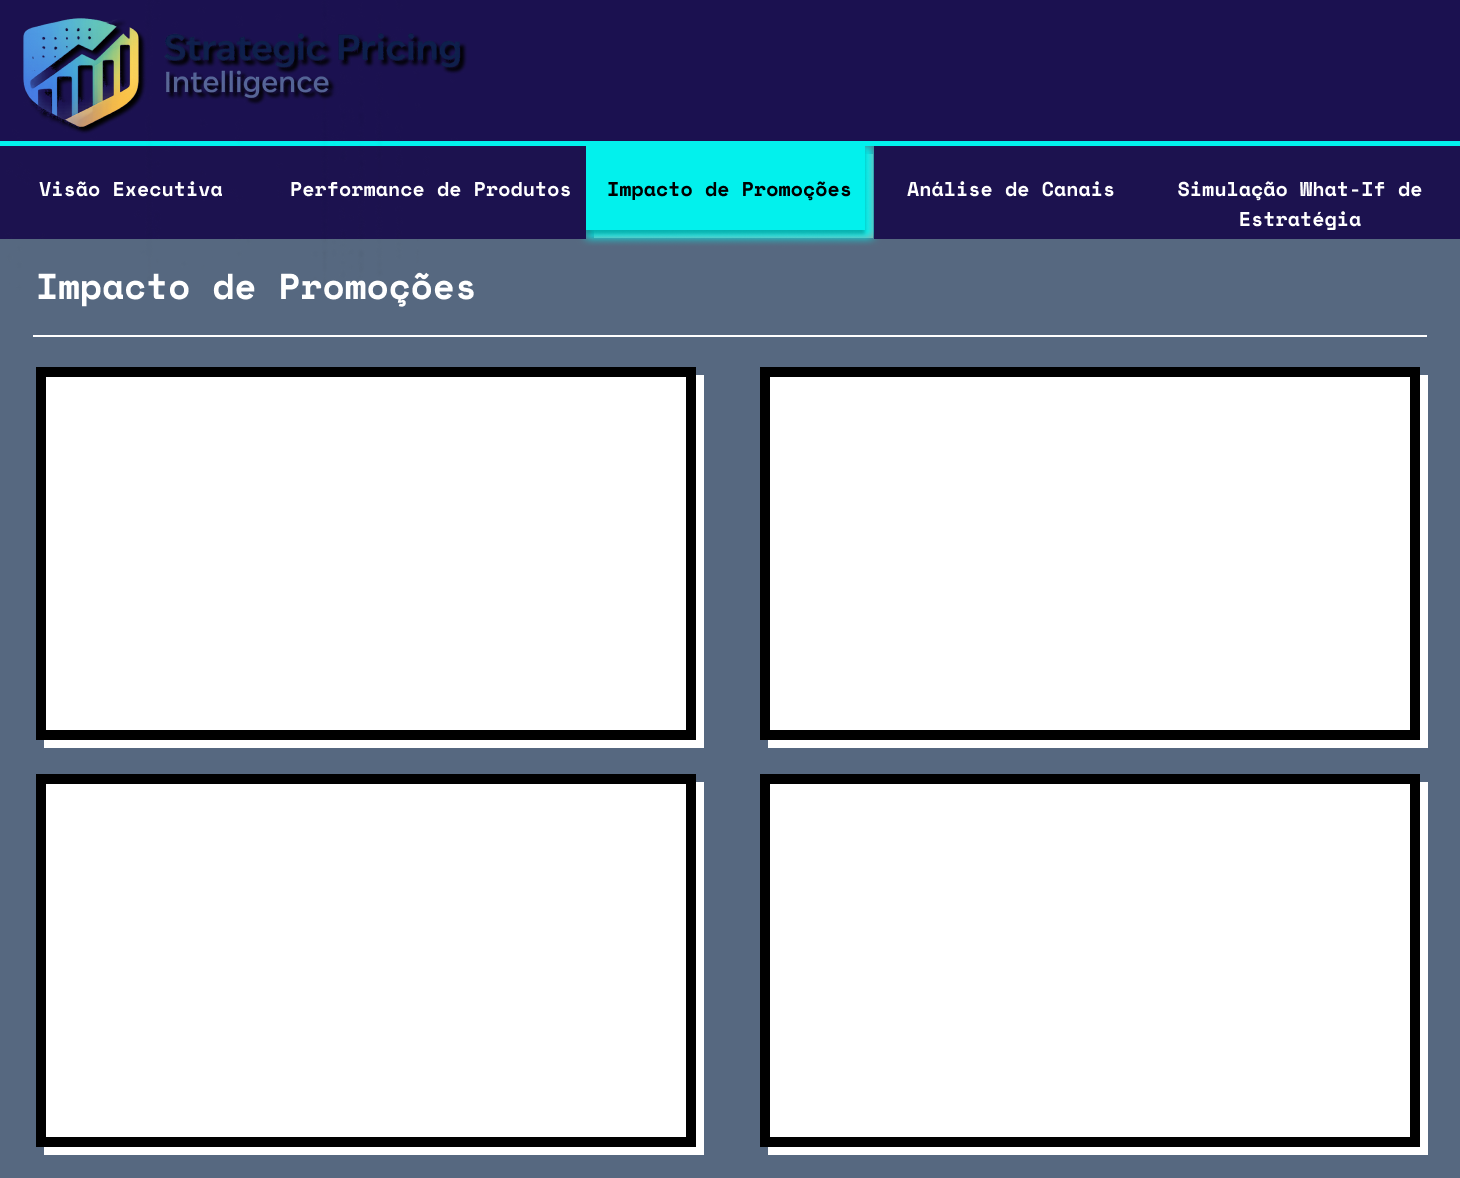

The page's visual inventory and layout, read from the dashboard file:
{"tool":"powerbi","page":{"name":"Impacto de Promoções","canvas":[1460,1178],"ordinal":2},"visuals":[{"type":"columnChart","title":"Receita por Promoção","fields":{"Category":["Dim_Promocao.TipoPromocao"],"Y":["Fato_Vendas.Receita Total"]},"box":[42,382,644,346],"z":0},{"type":"barChart","title":"Volume por Promoção","fields":{"Category":["Dim_Promocao.TipoPromocao"],"Y":["Fato_Vendas.Volume Total"]},"box":[770,382,642,346],"z":1000},{"type":"columnChart","fields":{"Category":["Dim_Promocao.TipoPromocao"],"Y":["Fato_Vendas.Margem %"]},"box":[42,796,644,340],"z":2000},{"type":"scatterChart","title":"Desconto vs Volume vs Receita","fields":{"X":["Dim_Promocao.Desconto"],"Y":["Fato_Vendas.Volume Total"],"Size":["Fato_Vendas.Receita Total"],"Series":["Dim_Promocao.TipoPromocao"]},"box":[770,796,642,340],"z":3000}]}

Visuals, with their boxes on the page's 1460x1178 design canvas (x1, y1, x2, y2). These are canvas units, not pixel positions in the 1460x1178 screenshot, which may show the page scaled, cropped or inside an application window:
"Receita por Promoção" columnChart: rect(42, 382, 686, 728)
"Volume por Promoção" barChart: rect(770, 382, 1412, 728)
columnChart - Dim_Promocao.TipoPromocao x Fato_Vendas.Margem %: rect(42, 796, 686, 1136)
"Desconto vs Volume vs Receita" scatterChart: rect(770, 796, 1412, 1136)
